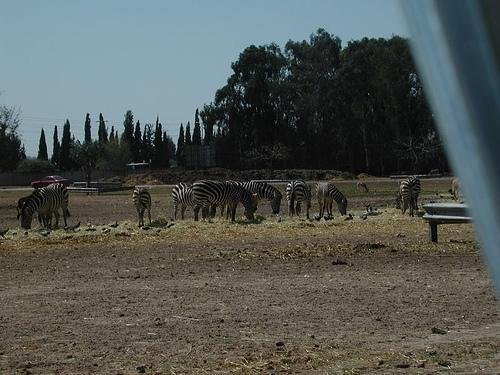car: (31, 175, 70, 189)
